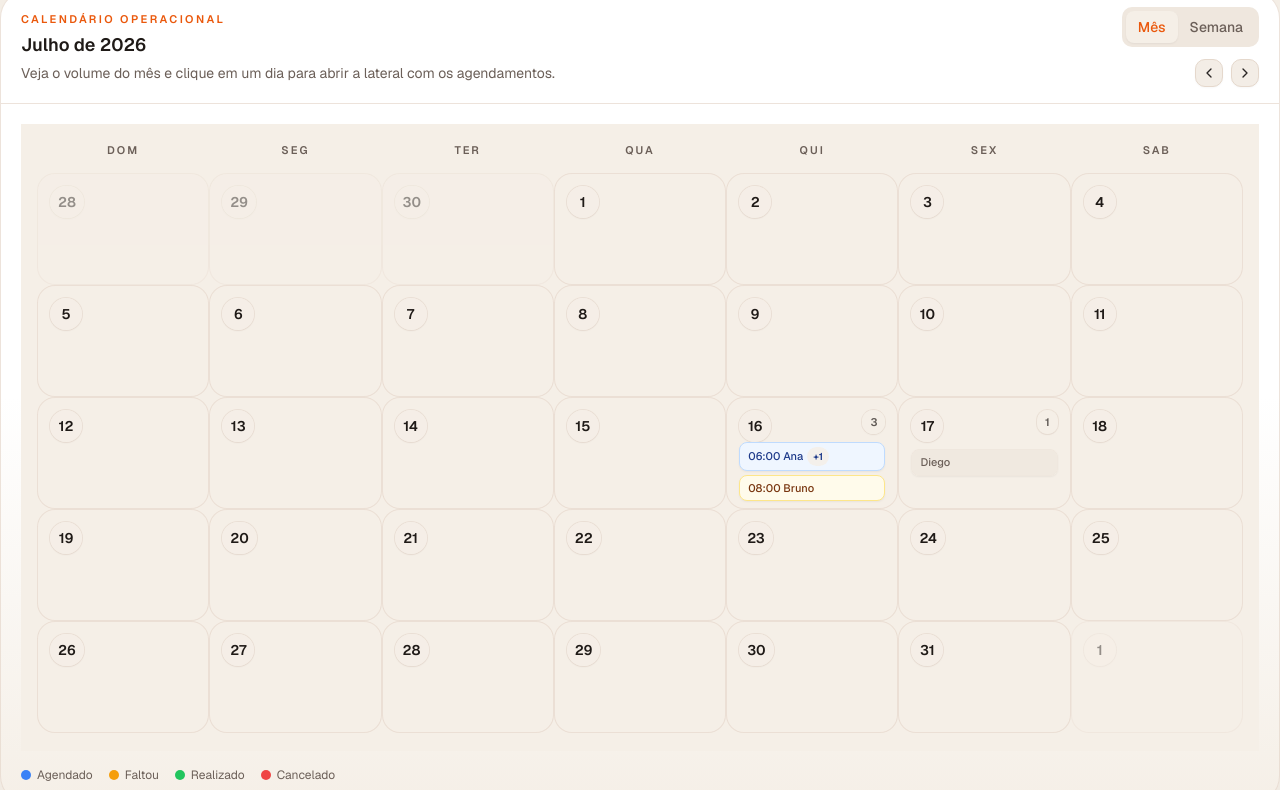
it: AgendaCalendario › seleciona o dia ao clicar na célula do mês
Click the button with test id "agenda-month-day-2026-07-15".
click(812, 452)  # box [726, 396, 898, 508]
(page scrolled)
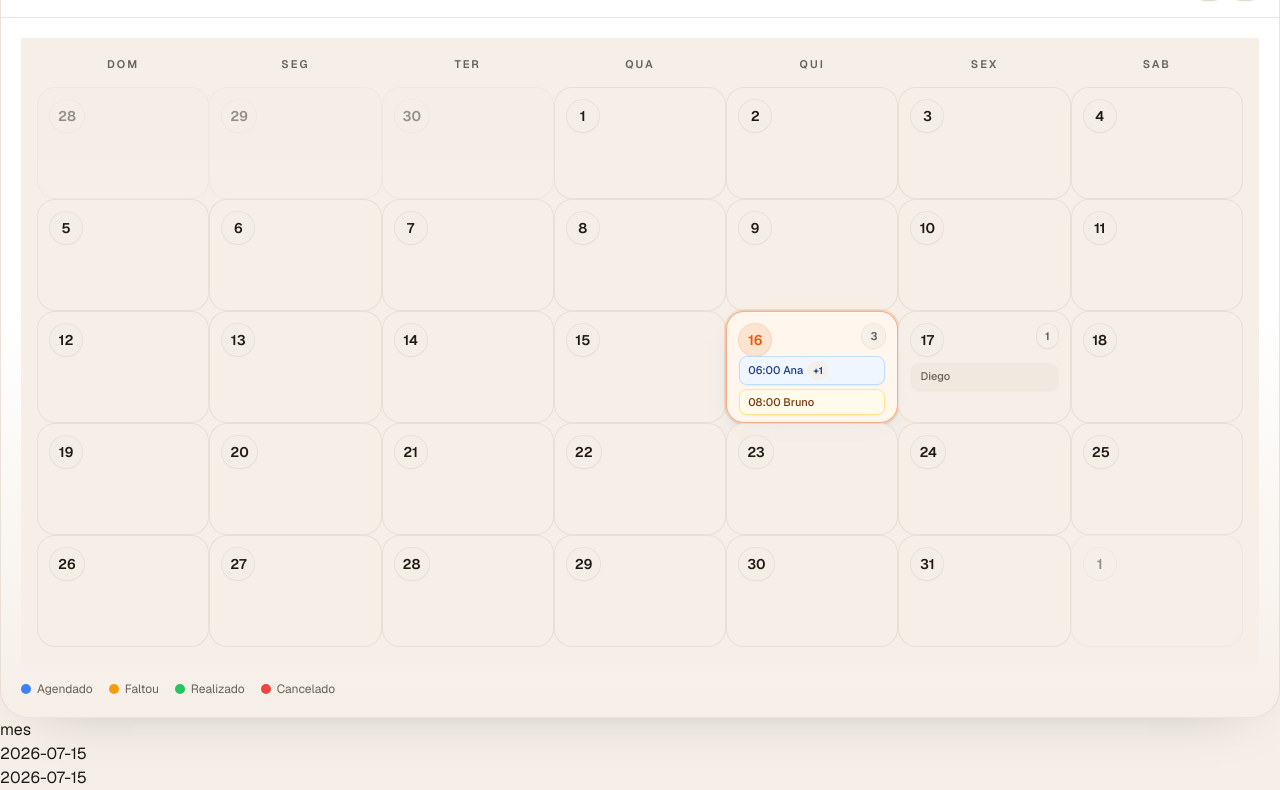
Check: the text with test id "selected-day" reads "2026-07-15", box [0, 766, 87, 788]
